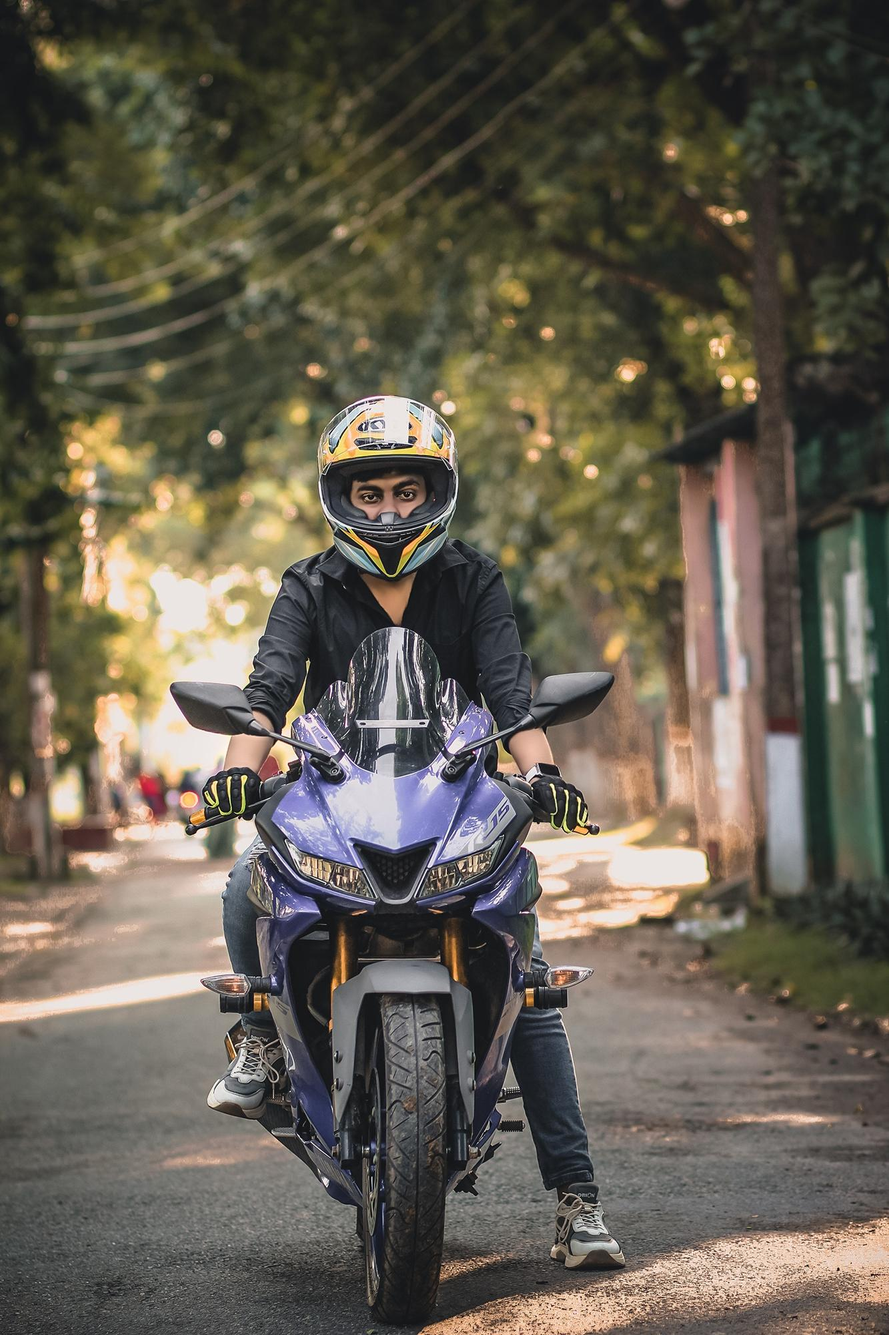helmet: (316, 393, 460, 583)
